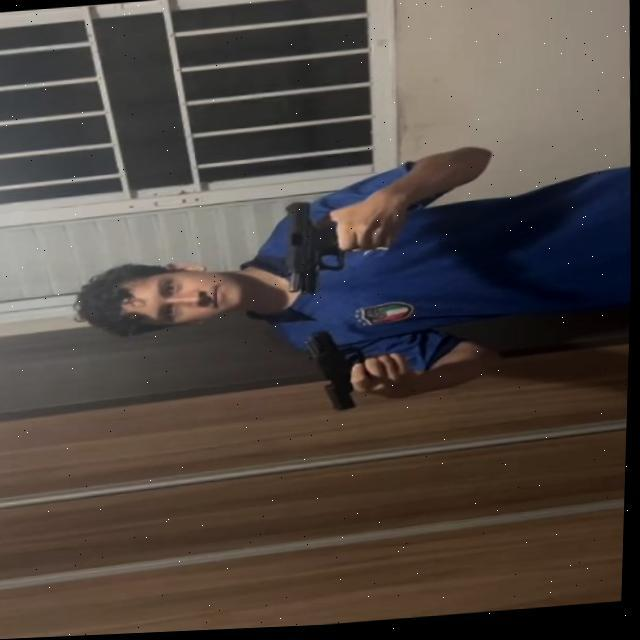gun: (279, 199, 352, 298), (299, 329, 370, 419)
